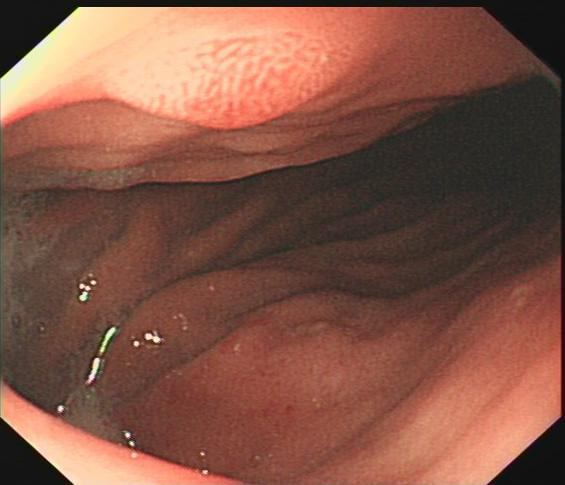Polyp: (91, 28, 353, 131)
